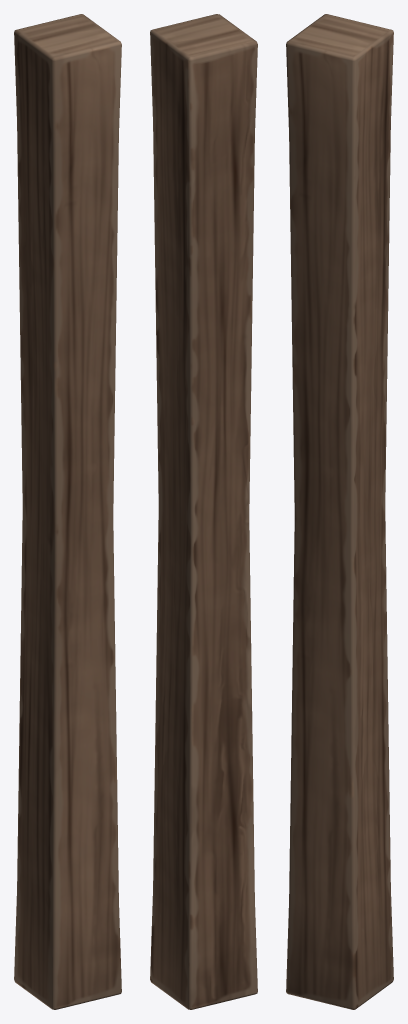
Rendered from Hangar01B_4.FBX.
3 views of the same model, side by side, from view 1: azimuth 30°, elevation 25°; view 2: azimuth 210°, elevation 25°; view 3: azimuth 330°, elevation 25° (orthographic).
Parts seen in each view (by area): view 1: Hangar01B_4; view 2: Hangar01B_4; view 3: Hangar01B_4.
Part boxes in pixels (box(x1,y1,x2,y2)): Hangar01B_4: box(14, 14, 121, 1009); Hangar01B_4: box(150, 14, 257, 1009); Hangar01B_4: box(286, 14, 393, 1009).
Size of what is drawn, in the model's own units: 0.2683 by 3.5 by 0.2683.
